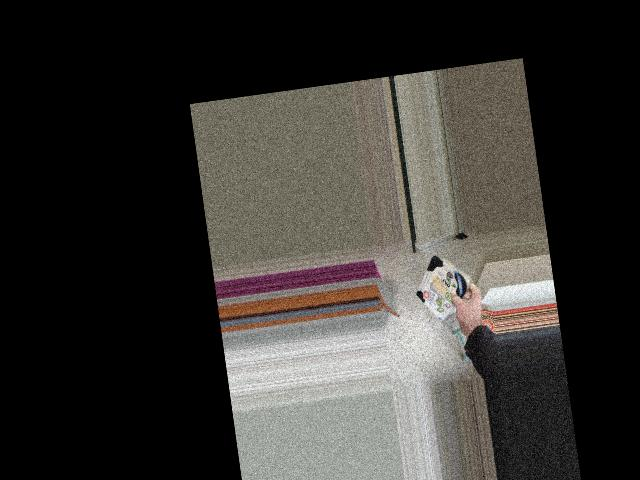cheese: (405, 251, 486, 314)
